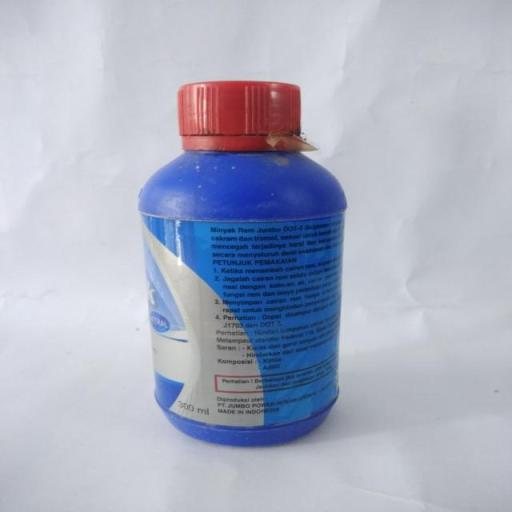plastic: (142, 70, 344, 447)
